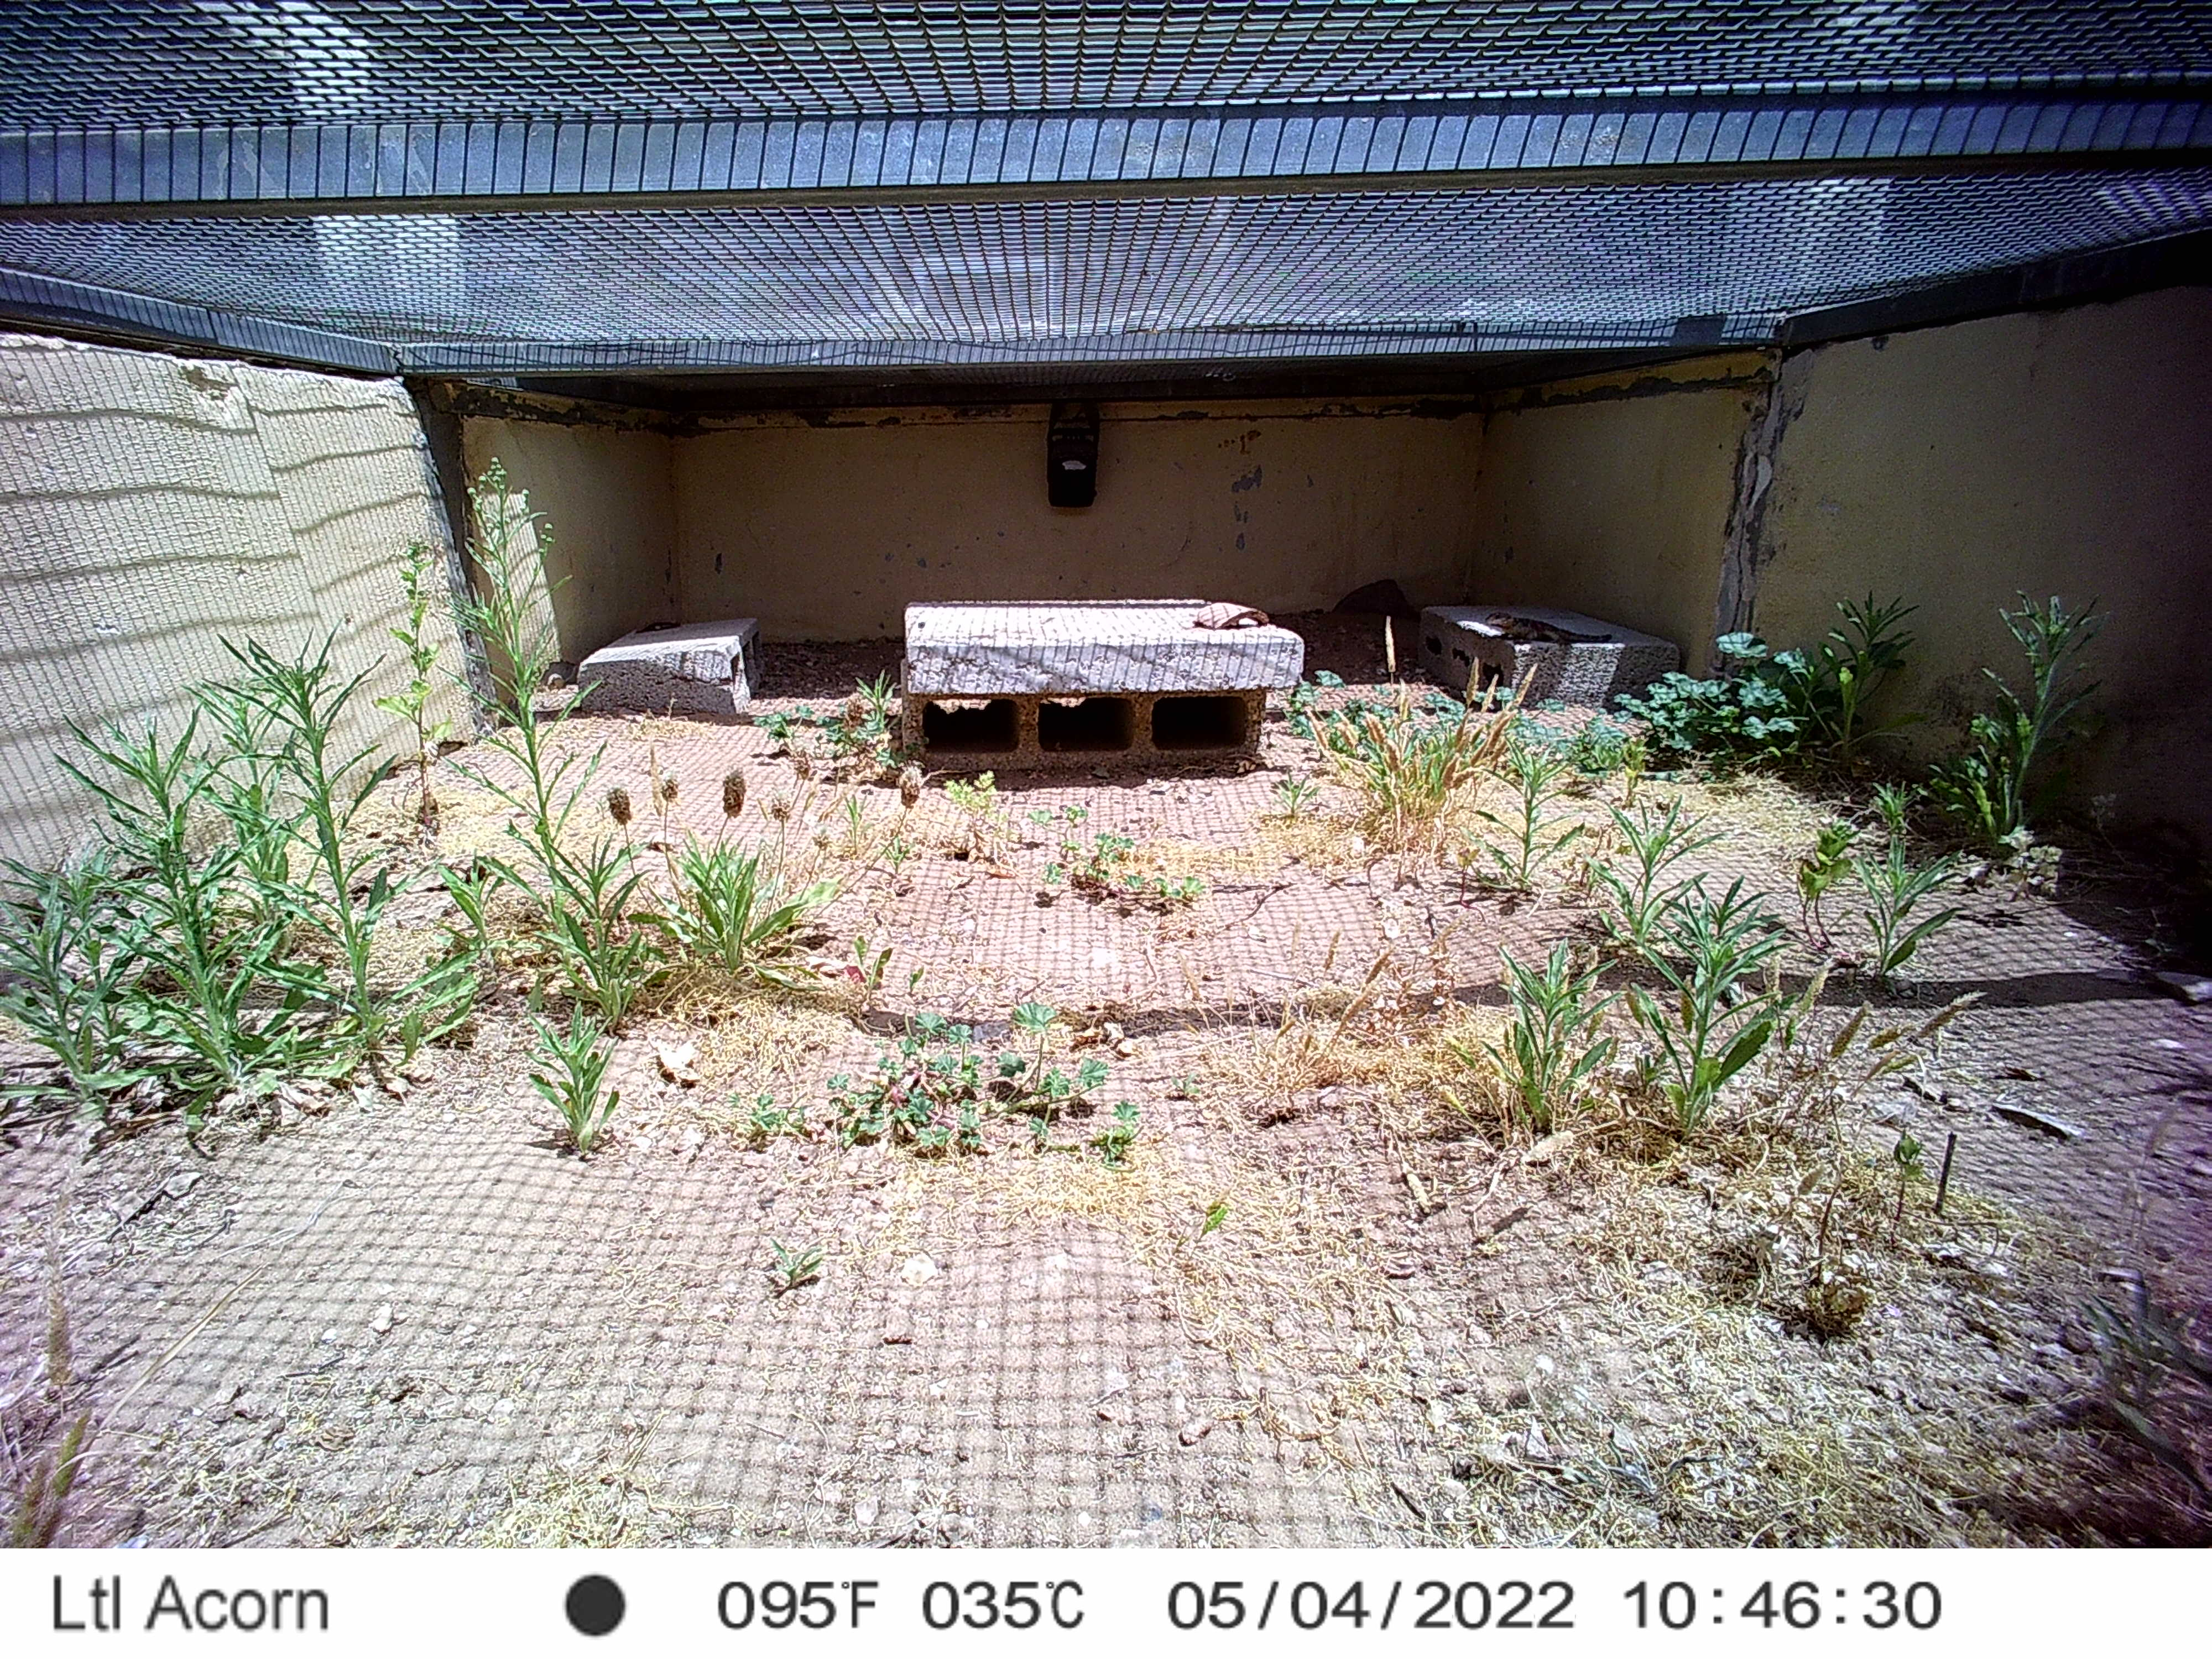lizard: (1477, 603, 1623, 662)
